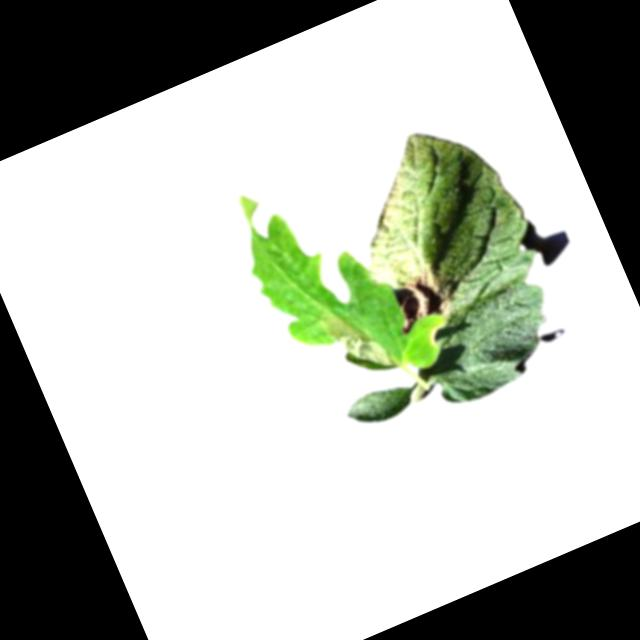Late_blight: (318, 293, 400, 386), (382, 264, 456, 335)
